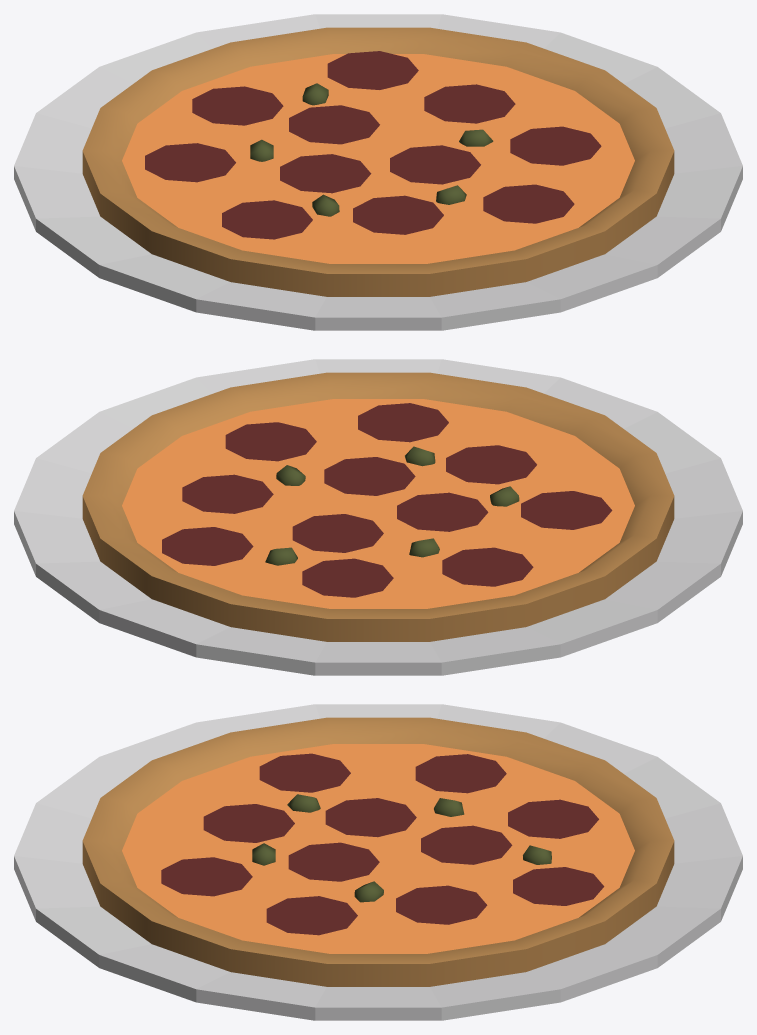
File: SM_foodPizza.glb
The picture shows the model from 3 angles, top to bottom: view 1: azimuth 30°, elevation 25°; view 2: azimuth 150°, elevation 25°; view 3: azimuth 270°, elevation 25°; orthographic projection.
Parts seen in each view (by area): view 1: SM_foodPizza; view 2: SM_foodPizza; view 3: SM_foodPizza.
Part boxes in pixels (x1,y1,x2,y2): SM_foodPizza: (14,14,742,330); SM_foodPizza: (14,359,742,675); SM_foodPizza: (14,704,742,1020).
Bounding box in the file's own units: 0.4586 × 0.0356 × 0.4657.
Materials: 1 (1 with a texture image).
